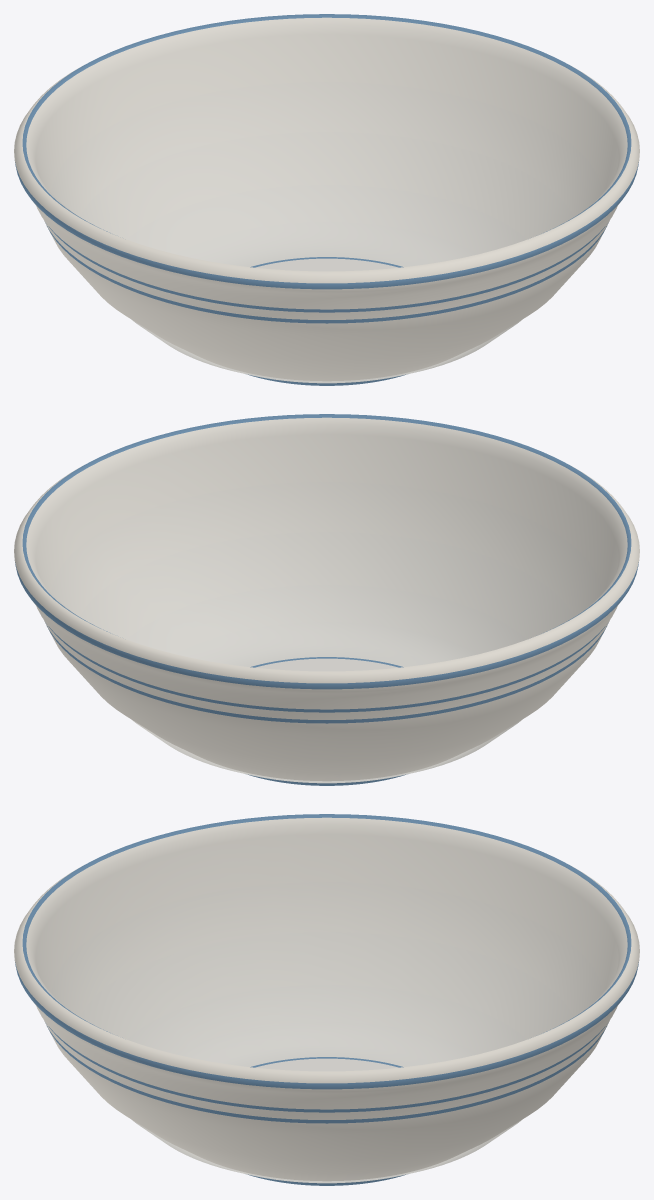
Rendered from rice_bowl_v01.glb.
3 renders of one model, top to bottom at view 1: azimuth 30°, elevation 25°; view 2: azimuth 150°, elevation 25°; view 3: azimuth 270°, elevation 25°, orthographic.
Visible parts, largest first — view 1: SolidCeramic; view 2: SolidCeramic; view 3: SolidCeramic.
Part boxes in pixels (x1,y1,x2,y2): SolidCeramic: [14, 14, 639, 385]; SolidCeramic: [14, 414, 639, 785]; SolidCeramic: [14, 814, 639, 1185].
Size of the model in its own units: 6.62 by 2.2 by 6.62.
